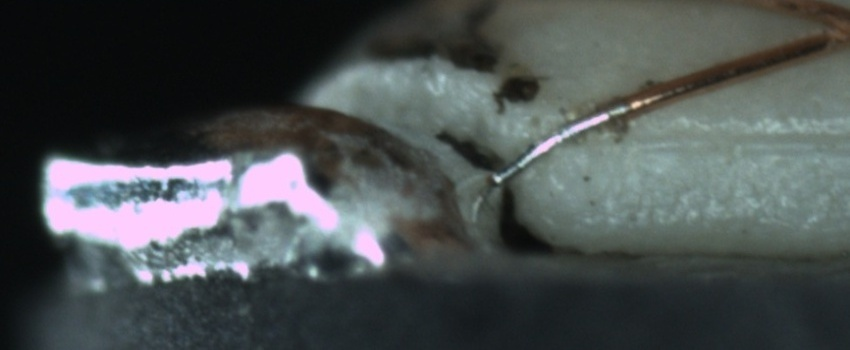DL: (613, 104, 844, 174)
TS: (498, 99, 629, 185)
TTCW: (498, 81, 676, 183)
